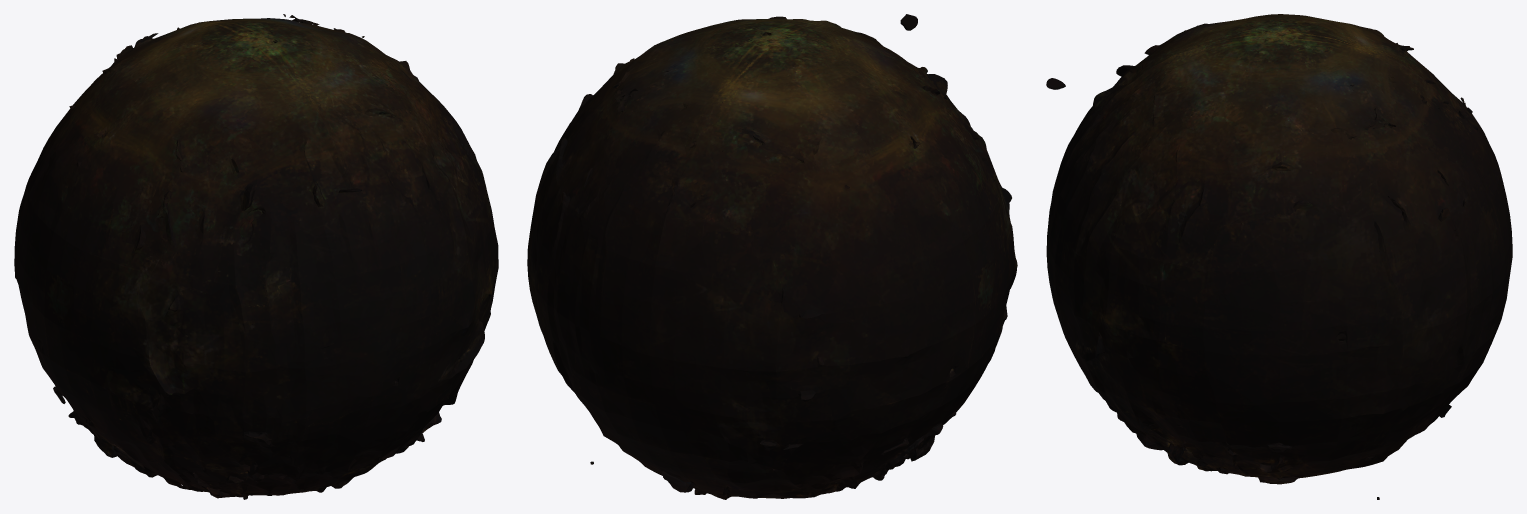
File: player_base.glb
3 views of the same model, side by side, from view 1: azimuth 30°, elevation 25°; view 2: azimuth 150°, elevation 25°; view 3: azimuth 270°, elevation 25° (orthographic). The views are drawn at different scales.
Visible parts, largest first — view 1: world; view 2: world; view 3: world.
Part boxes in pixels (left/top/right/bottom): world: left=14, top=14, right=498, bottom=499; world: left=527, top=14, right=1017, bottom=499; world: left=1046, top=14, right=1512, bottom=499.
Size of the model in its own units: 0.9971 by 0.9971 by 0.9976.
1 material, 1 textured.
